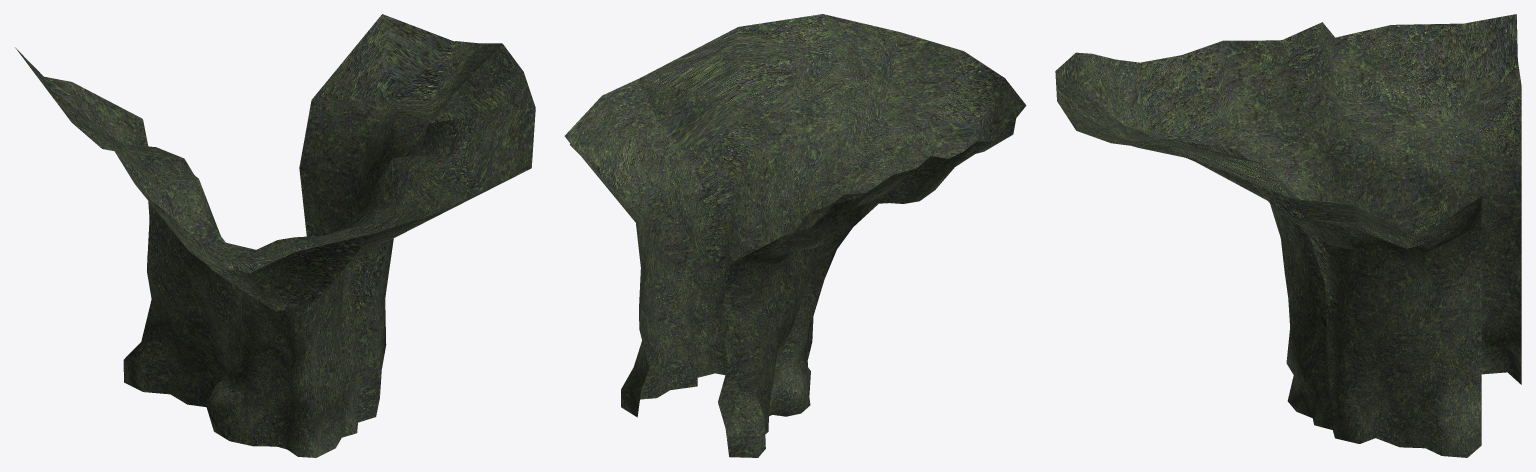
The model's file is cliff_side_00.fbx.
3 views of the same model, side by side, from view 1: azimuth 30°, elevation 25°; view 2: azimuth 150°, elevation 25°; view 3: azimuth 270°, elevation 25° (orthographic). The views are drawn at different scales.
Visible parts, largest first — view 1: cliff_side_00; view 2: cliff_side_00; view 3: cliff_side_00.
Boxes of the visible parts, box(x1,y1,x2,y2) form: cliff_side_00: box(15, 14, 535, 457); cliff_side_00: box(564, 14, 1026, 457); cliff_side_00: box(1055, 14, 1521, 457).
Bounding box in the file's own units: 101 × 82.27 × 109.
